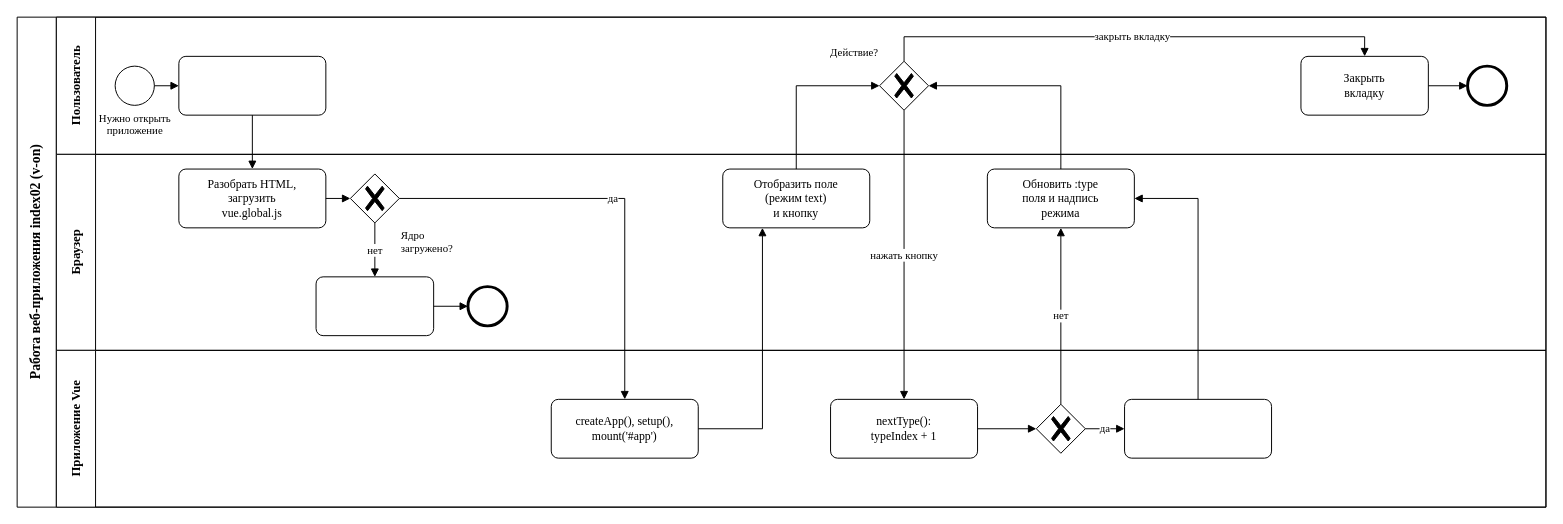
Image size: 1563x524. Some labels were removed from this diagram. The centre of each missing label's shape, as x and y in pixels:
"typeIndex = 0 (режим text)" belongs at point 1198,428.
"Вывести шаблон без подстановки" belongs at point 374,306.
"Открыть файл index02_Kozlov_A_D.html" belongs at point 252,85.
"Приложение не запущено" belongs at point 487,306.
"Работа завершена" belongs at point 1487,85.
"Режимы закончились?" belongs at point 1060,428.
